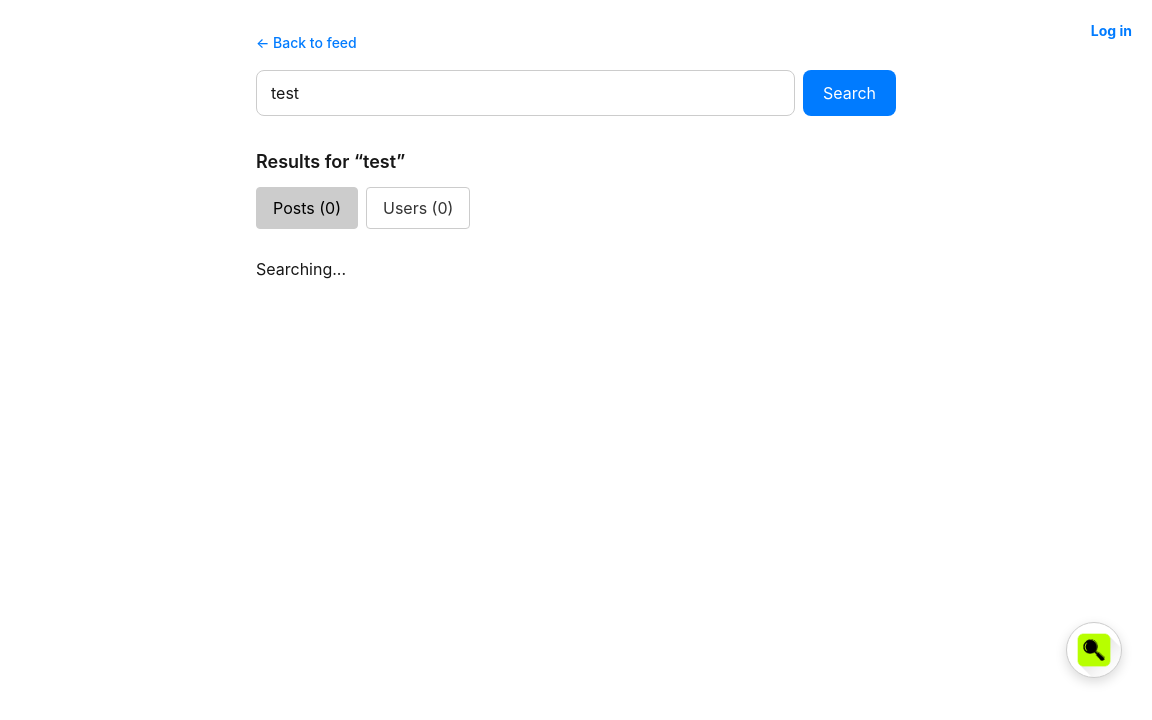
Test: SearchPage › shows no users found message
Click the button "Users (0)".
click(418, 208)  # box [366,187,470,229]
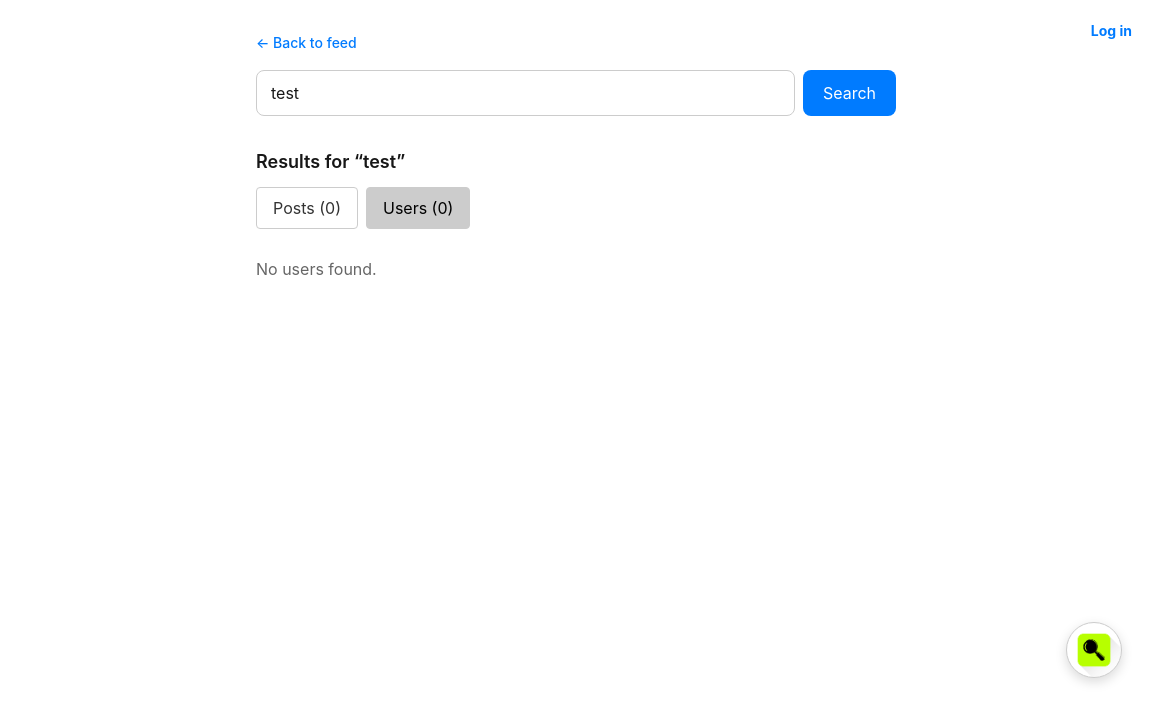
Now the text "No users found." is shown, box [256,259,377,279]
